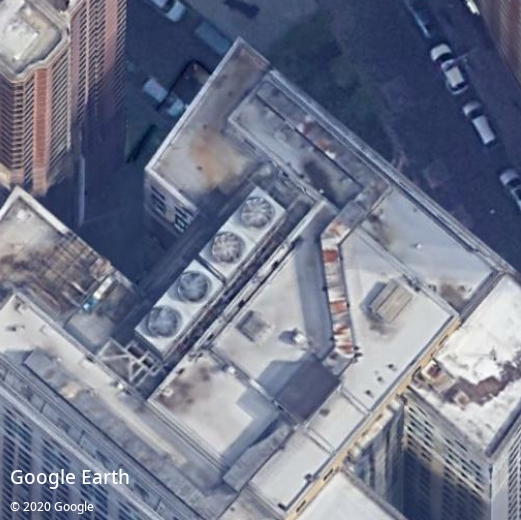Vent: (241, 197, 275, 229), (211, 232, 245, 264), (147, 306, 181, 338), (178, 272, 210, 303)
